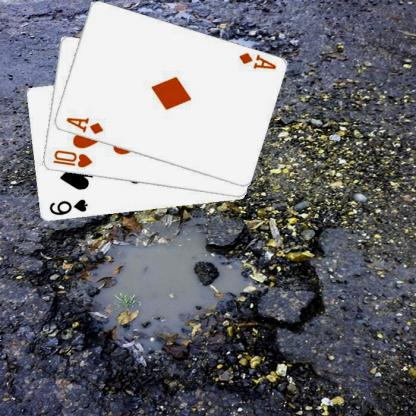10H: (50, 148, 93, 169)
6S: (46, 197, 89, 217)
AD: (63, 114, 104, 136), (236, 50, 277, 71)
